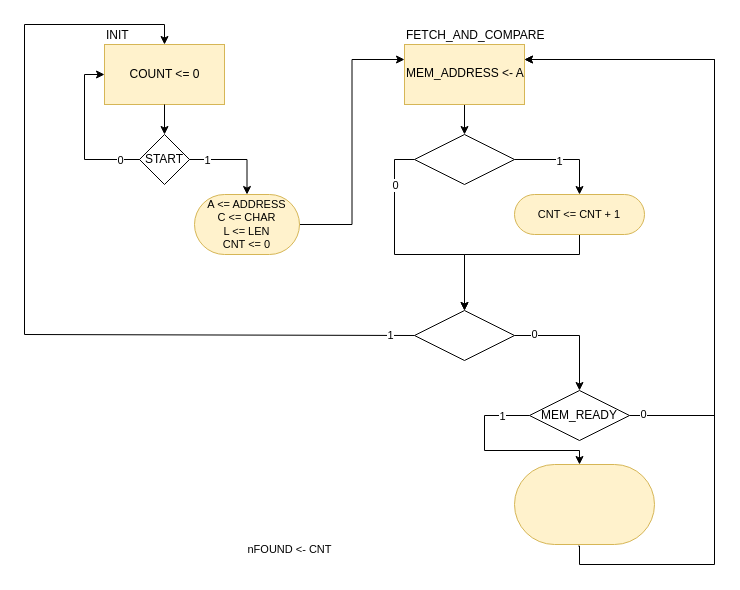
Image size: 740x590. Some labels were removed from this diagram. Each missing label, with the centre of its shape:
"C = D" belongs at point (464, 159).
"COUNT = L" belongs at point (464, 335).
"D <= MEM_DATAIN COUNT <= COUNT + 1 A <= A + 1 MEM_ENABLE <- 1" belongs at point (584, 504).
